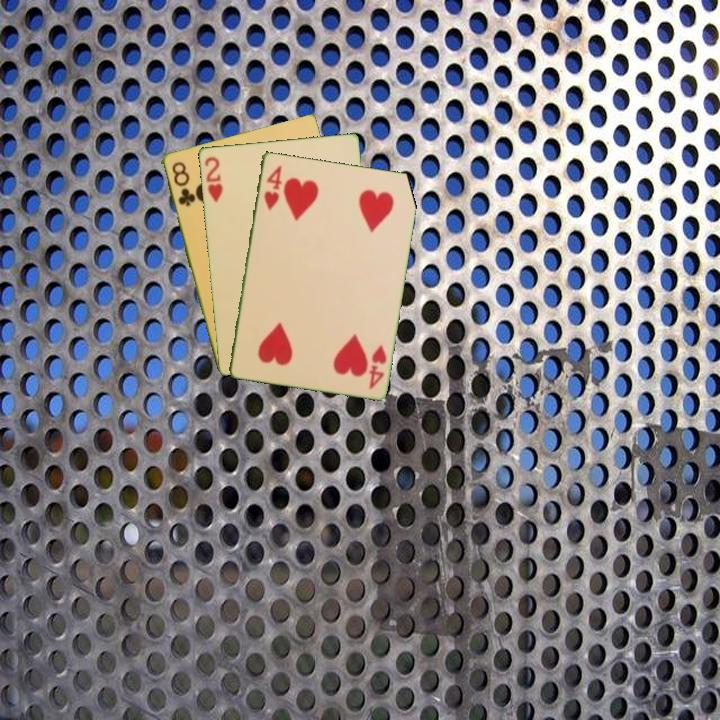2h: (201, 153, 225, 205)
4h: (260, 161, 284, 212), (365, 341, 389, 392)
8c: (168, 158, 198, 209)
